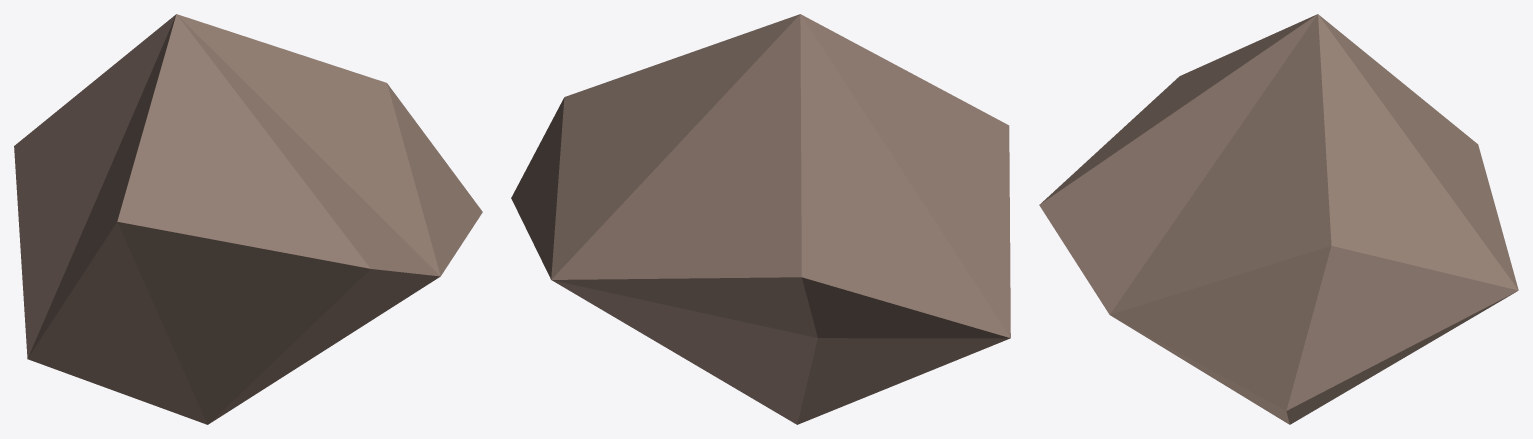
Rendered from RockMed1.fbx.
The picture shows the model from 3 angles, left to right: view 1: azimuth 30°, elevation 25°; view 2: azimuth 150°, elevation 25°; view 3: azimuth 270°, elevation 25°; orthographic projection. The views are drawn at different scales.
Parts seen in each view (by area): view 1: RockMed1; view 2: RockMed1; view 3: RockMed1.
Boxes of the visible parts, <box> form: RockMed1: <box>14,14,482,424</box>; RockMed1: <box>511,14,1010,424</box>; RockMed1: <box>1039,14,1518,424</box>.
Bounding box in the file's own units: 1.95 × 1.62 × 1.75.
